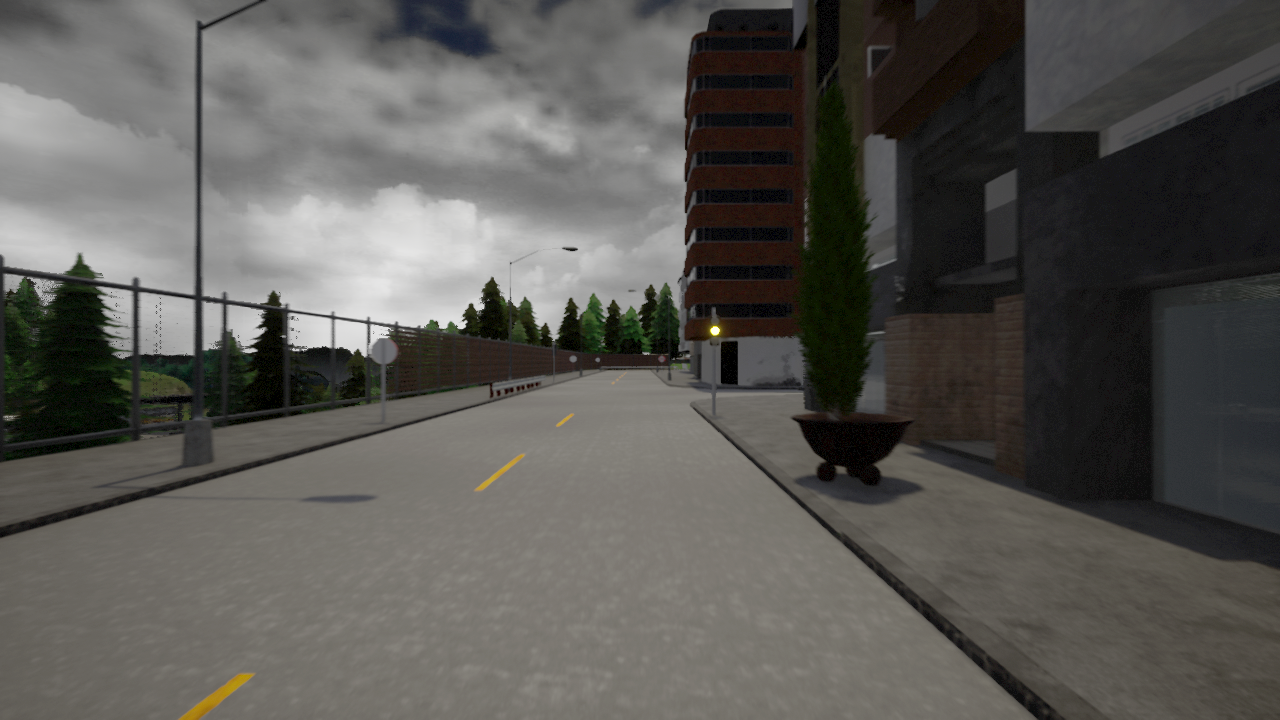yellow: (709, 314, 722, 346)
